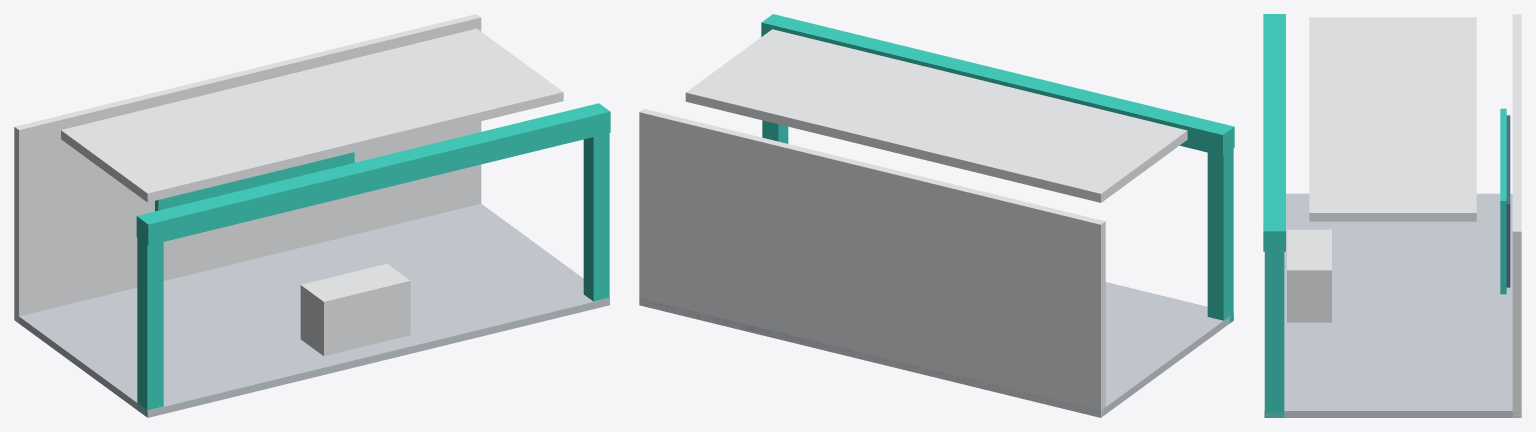
3 views of the same model, side by side, from view 1: azimuth 30°, elevation 25°; view 2: azimuth 150°, elevation 25°; view 3: azimuth 270°, elevation 25° (orthographic). The views are drawn at different scales.
Parts seen in each view (by area): view 1: Exhibition Booth Concept; view 2: Exhibition Booth Concept; view 3: Exhibition Booth Concept.
Part boxes in pixels (x1=…): Exhibition Booth Concept: x1=14, y1=14, x2=610, y2=417; Exhibition Booth Concept: x1=639, y1=14, x2=1234, y2=417; Exhibition Booth Concept: x1=1263, y1=14, x2=1521, y2=417.
Size of the model in its own units: 8 by 3.34 by 4.02.
